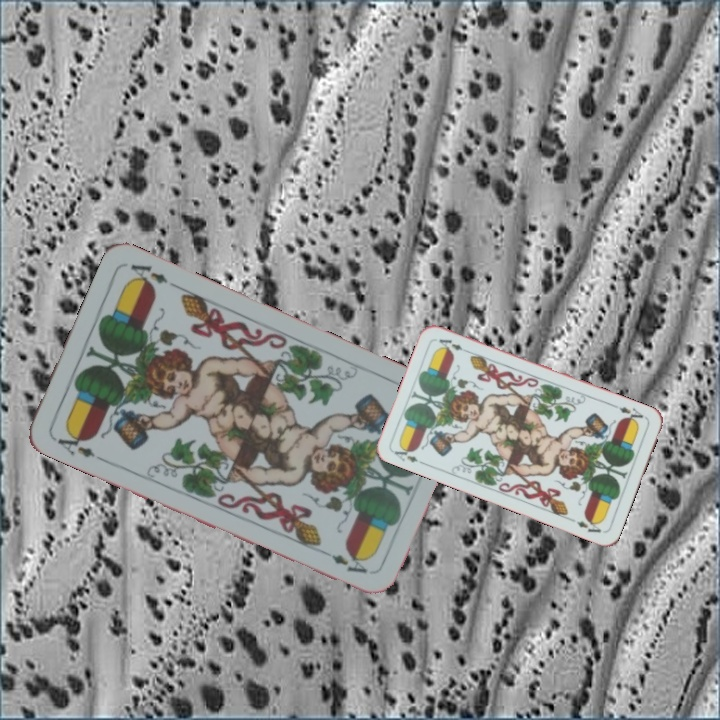EA: (49, 425, 98, 461), (390, 442, 428, 467), (609, 402, 646, 426)
